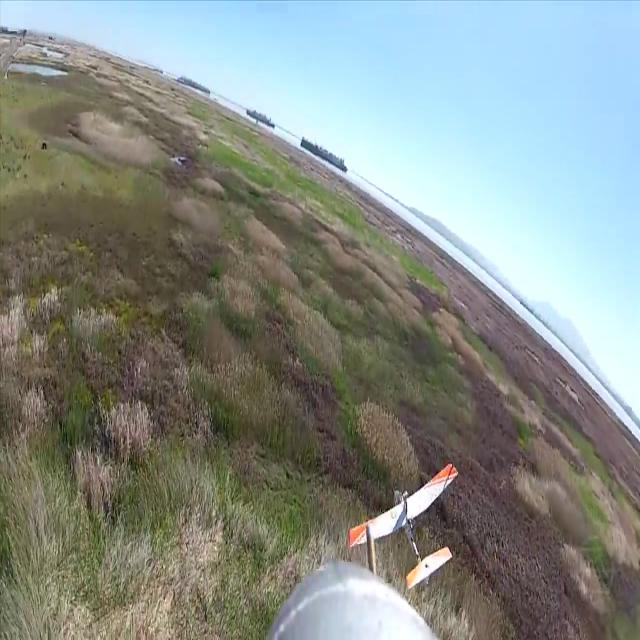iha: (380, 452, 427, 580)
